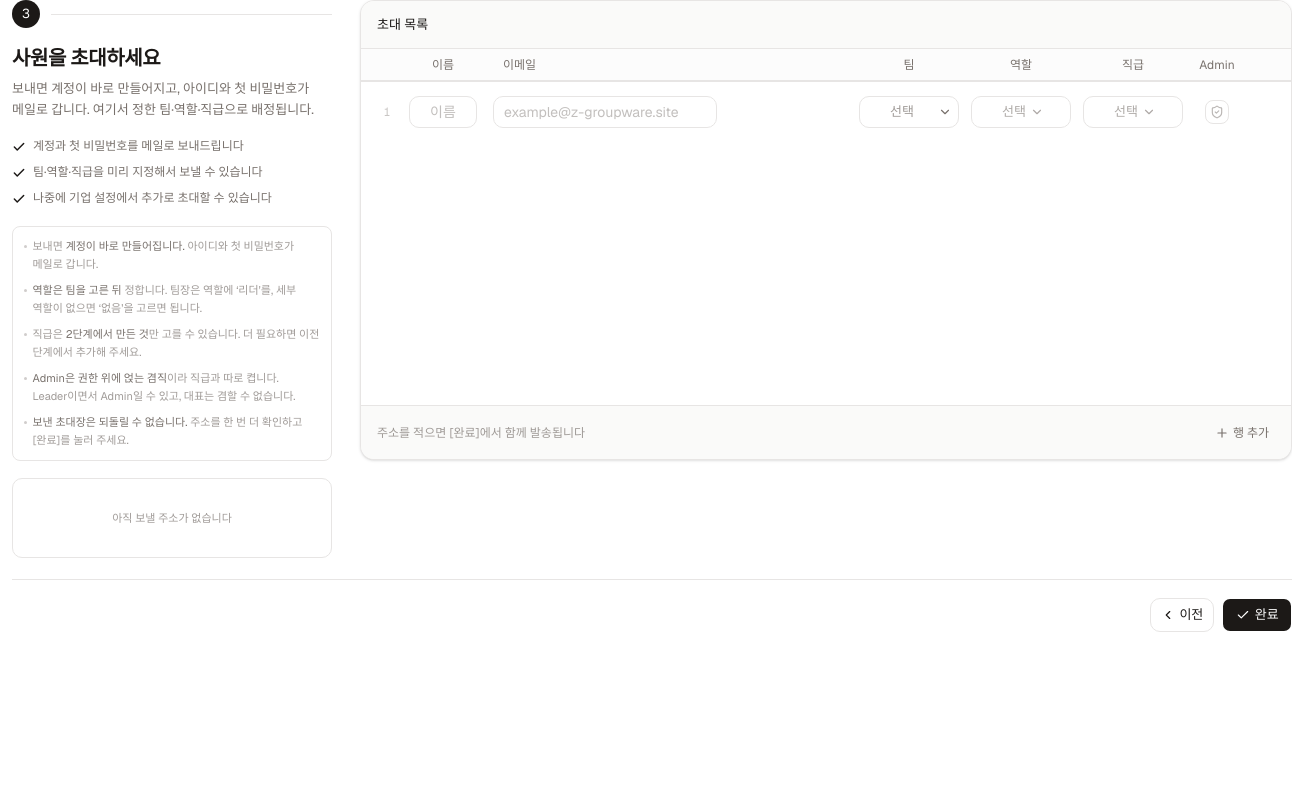
Test: InviteSetup › 같은 주소를 또 적으면 잡아낸다
Type "hyun@nova.com" into the field named "초대할 메일 주소" at (605, 112), box [493,96,717,128]
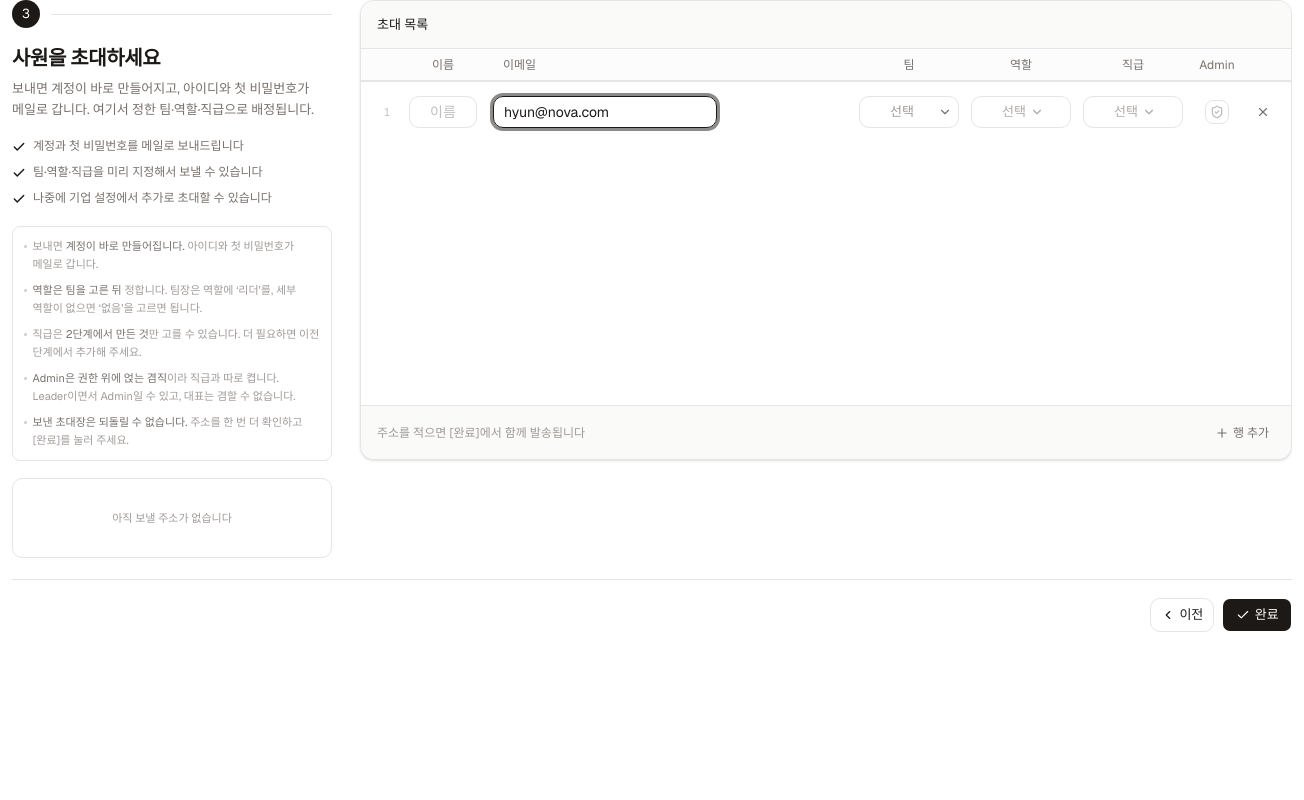
Click the button "행 추가" at (1242, 432), box [1209,416,1275,448]
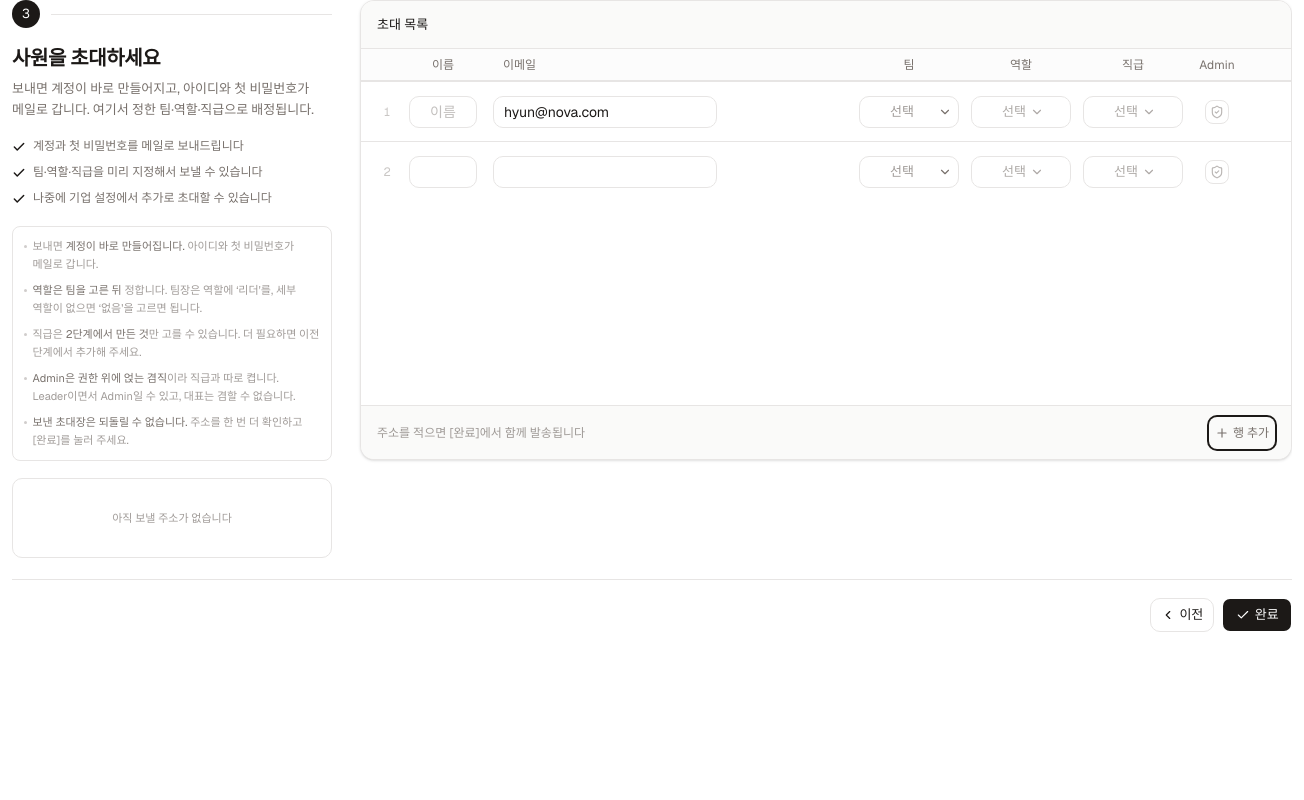
Type "hyun@nova.com" into the 3rd field named "초대할 메일 주소" at (605, 172), box [493,156,717,188]
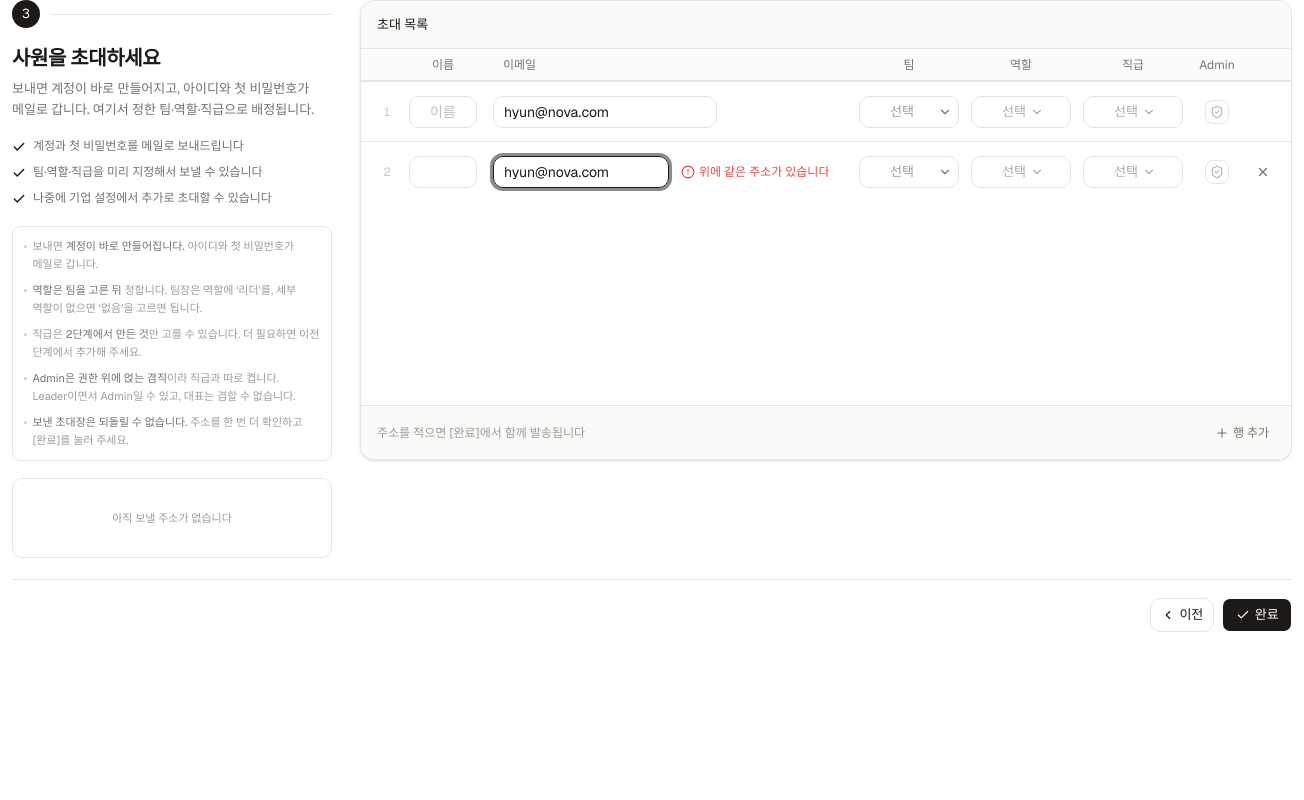
Now the text "위에 같은 주소가 있습니다" is shown once, box [699,164,830,180]
